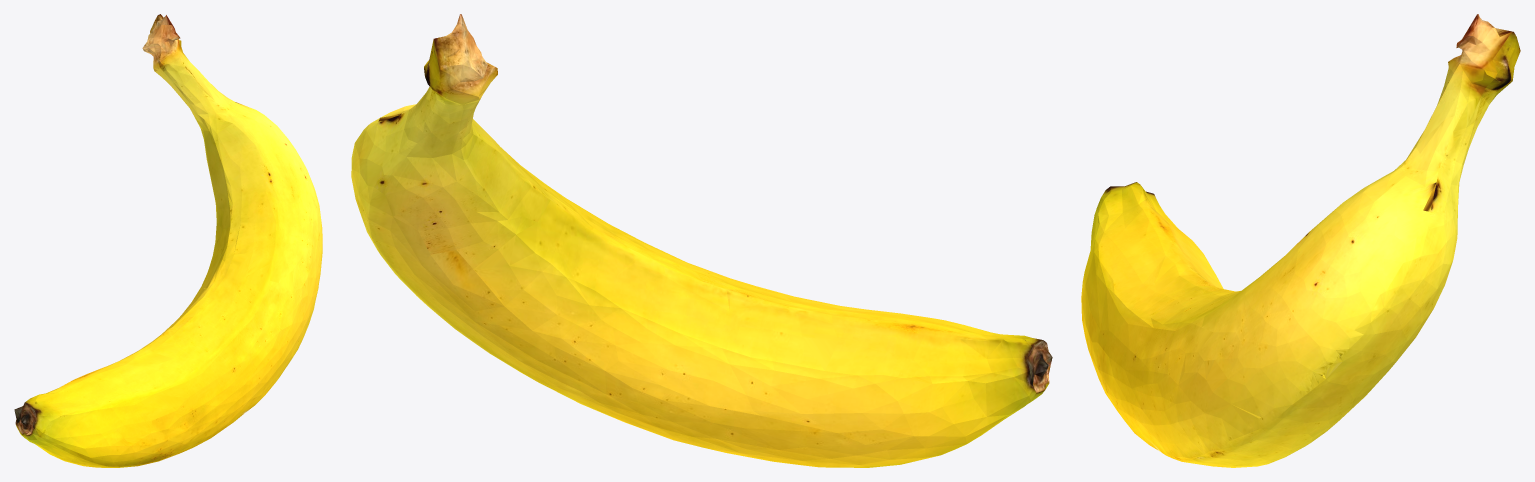
Rendered from banana.glb.
3 views of the same model, side by side, from view 1: azimuth 30°, elevation 25°; view 2: azimuth 150°, elevation 25°; view 3: azimuth 270°, elevation 25° (orthographic). The views are drawn at different scales.
Visible parts, largest first — view 1: banana; view 2: banana; view 3: banana.
Boxes of the visible parts, <box> form: banana: <box>14,14,322,467</box>; banana: <box>351,14,1052,467</box>; banana: <box>1081,14,1520,467</box>.
Bounding box in the file's own units: 5.94 × 5.19 × 4.19.
Materials: 1 (1 with a texture image).
